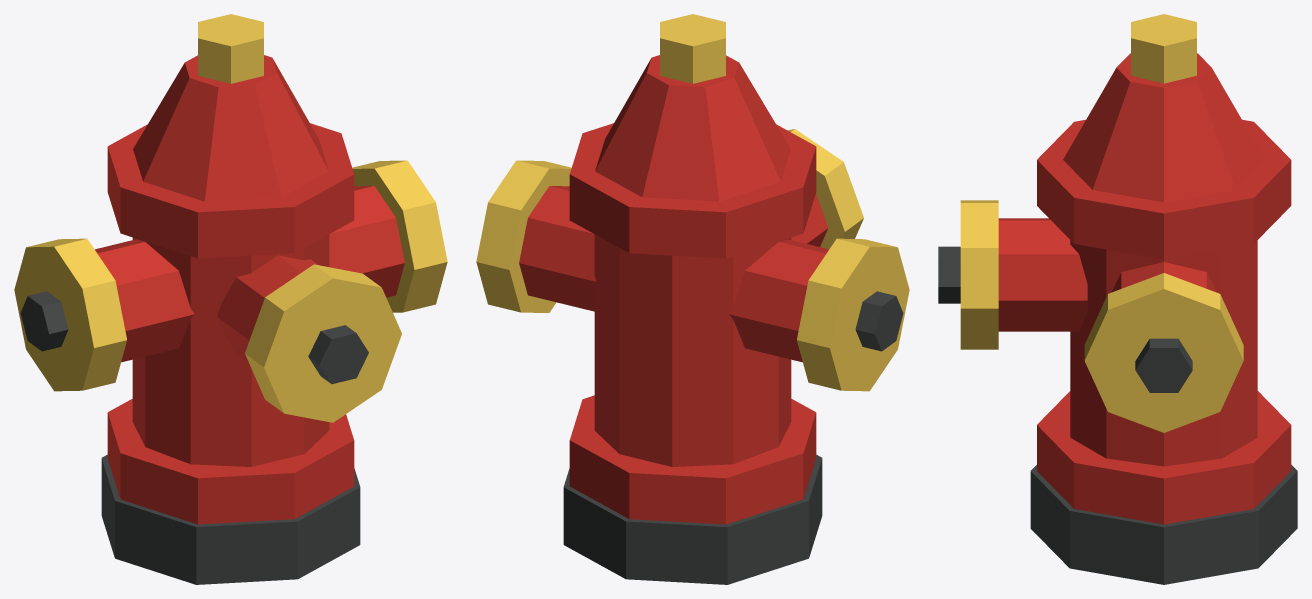
The model's file is fire_hydrant.glb.
3 renders of one model, left to right at view 1: azimuth 30°, elevation 25°; view 2: azimuth 150°, elevation 25°; view 3: azimuth 270°, elevation 25°, orthographic.
Parts seen in each view (by area): view 1: body, bonnet, top_flange, foot, lower_flange, nozzle_cap_3, nozzle_cap_1, nozzle_neck_1, nozzle_cap_2, nozzle_neck_2, top_nut, nozzle_neck_3 (+2 smaller); view 2: body, bonnet, top_flange, foot, lower_flange, nozzle_cap_1, nozzle_cap_2, nozzle_neck_1, nozzle_neck_2, top_nut, nozzle_cap_3, nozzle_nut_1 (+1 smaller); view 3: bonnet, body, top_flange, lower_flange, foot, nozzle_cap_2, nozzle_neck_3, nozzle_cap_3, top_nut, nozzle_nut_2, nozzle_neck_2, nozzle_nut_3.
Boxes of the visible parts, left/top/right/bottom form: body: left=132, top=234, right=329, bottom=466; bonnet: left=133, top=55, right=328, bottom=201; top_flange: left=107, top=123, right=354, bottom=258; foot: left=101, top=454, right=360, bottom=584; lower_flange: left=107, top=399, right=354, bottom=524; nozzle_cap_3: left=245, top=264, right=401, bottom=422; nozzle_cap_1: left=14, top=238, right=126, bottom=391; nozzle_neck_1: left=95, top=239, right=194, bottom=362; nozzle_cap_2: left=352, top=160, right=447, bottom=312; nozzle_neck_2: left=329, top=186, right=404, bottom=297; top_nut: left=198, top=14, right=263, bottom=83; nozzle_neck_3: left=217, top=255, right=318, bottom=364; body: left=594, top=234, right=791, bottom=466; bonnet: left=595, top=55, right=790, bottom=201; top_flange: left=569, top=123, right=816, bottom=258; foot: left=563, top=454, right=822, bottom=584; lower_flange: left=569, top=395, right=816, bottom=524; nozzle_cap_1: left=797, top=238, right=909, bottom=391; nozzle_cap_2: left=476, top=160, right=571, bottom=312; nozzle_neck_1: left=729, top=239, right=828, bottom=362; nozzle_neck_2: left=519, top=186, right=596, bottom=311; top_nut: left=660, top=14, right=725, bottom=83; nozzle_cap_3: left=788, top=129, right=863, bottom=249; nozzle_nut_1: left=855, top=291, right=903, bottom=351; bonnet: left=1063, top=53, right=1264, bottom=202; body: left=1070, top=240, right=1257, bottom=466; top_flange: left=1037, top=119, right=1291, bottom=259; lower_flange: left=1037, top=391, right=1291, bottom=524; foot: left=1030, top=465, right=1297, bottom=584; nozzle_cap_2: left=1084, top=273, right=1243, bottom=432; nozzle_neck_3: left=998, top=218, right=1087, bottom=331; nozzle_cap_3: left=960, top=200, right=998, bottom=349; top_nut: left=1131, top=14, right=1196, bottom=83; nozzle_nut_2: left=1135, top=338, right=1192, bottom=392; nozzle_neck_2: left=1111, top=262, right=1216, bottom=292; nozzle_nut_3: left=938, top=246, right=960, bottom=303.
Bounding box in the file's own units: 1.42 × 1.73 × 1.13.
